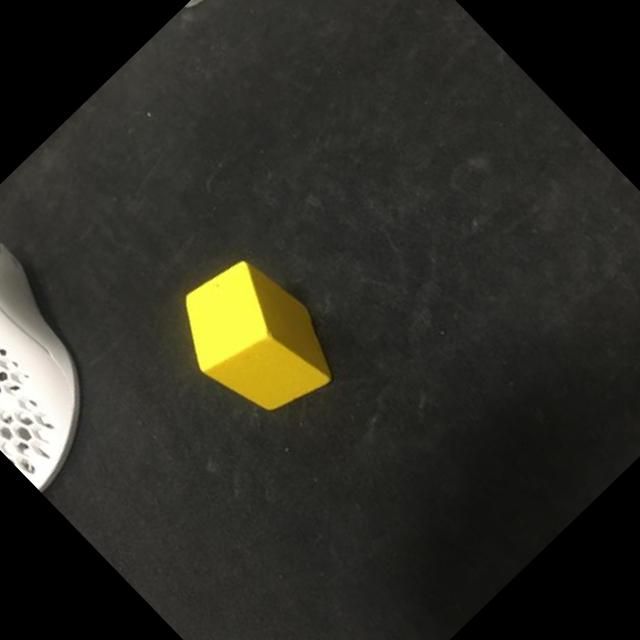yellow: (156, 240, 358, 442)
